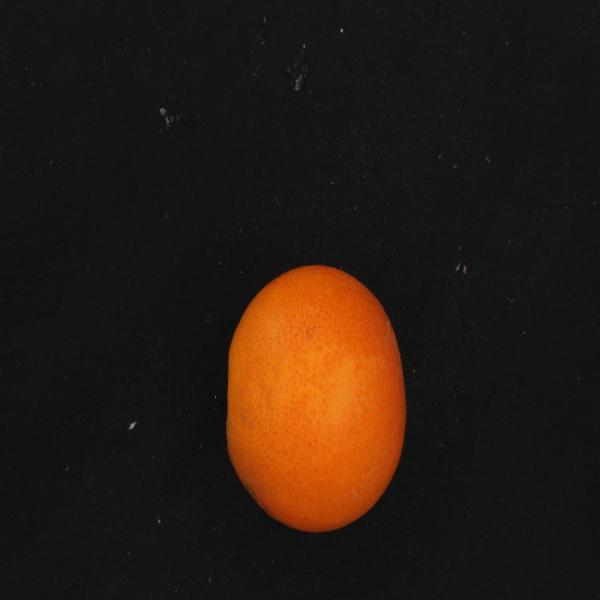Sana: (215, 260, 413, 541)
